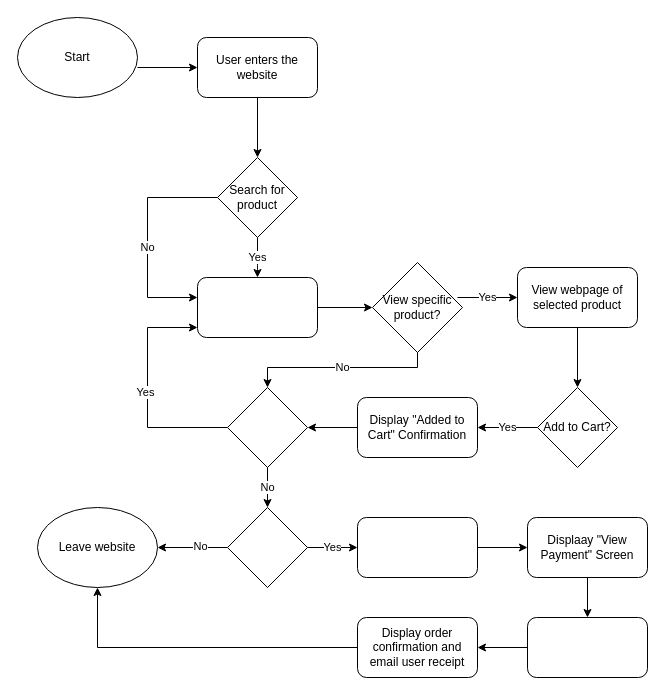
This 665x695 diagram has some shape labels left out. The shapes that lost their labels are listed below. From the top down, each one's centre as x and y in pixels, then its label:
(x=257, y=307): Display Product(s)
(x=267, y=427): Continue Shopping?
(x=267, y=547): Checkout?
(x=417, y=547): Display "View Cart" Screen
(x=587, y=647): User inputs payment information
